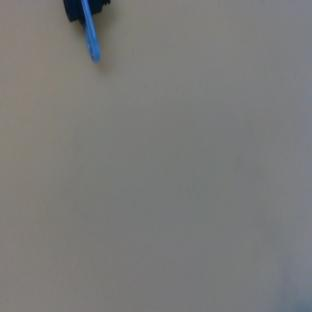part_1_good: (63, 0, 110, 61)
